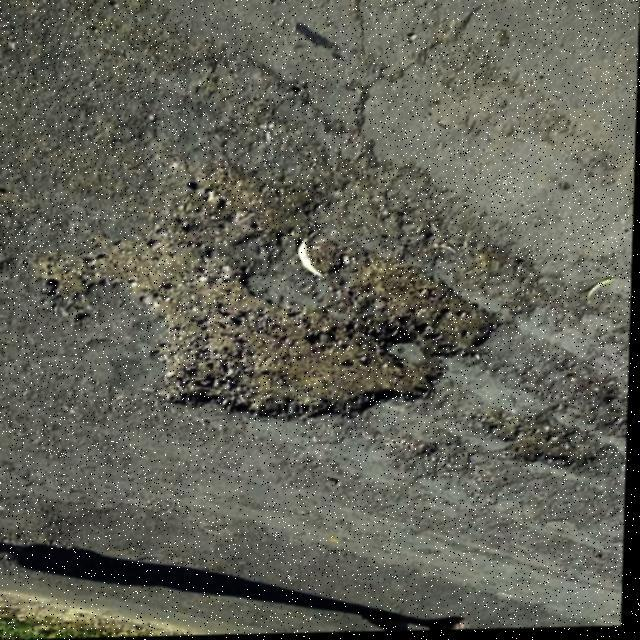pothole: (38, 172, 524, 444)
